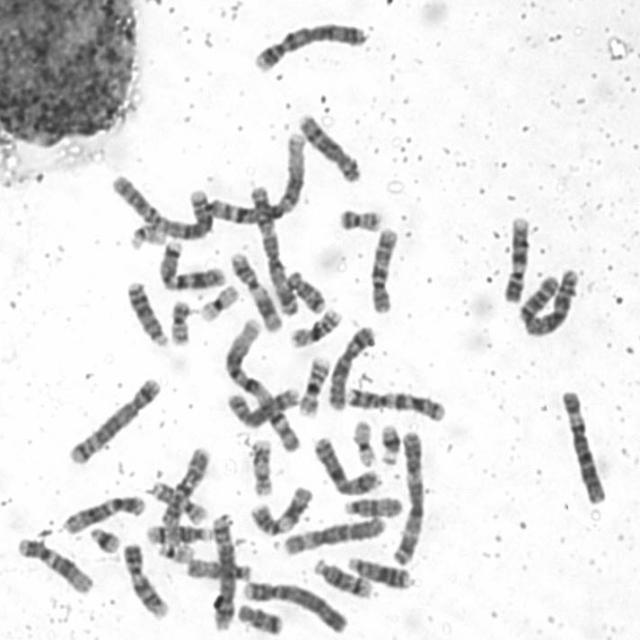A1: (221, 316, 302, 454), (204, 129, 308, 226)
A2: (107, 169, 215, 242), (516, 266, 581, 337)
A3: (248, 180, 300, 317), (387, 428, 427, 568)
B4: (238, 576, 349, 634), (250, 19, 366, 74)
B5: (66, 374, 162, 466), (207, 511, 237, 634)
C10: (158, 443, 212, 530), (366, 225, 399, 316)
C11: (227, 248, 283, 334), (247, 482, 313, 536)
C12: (15, 532, 94, 596), (60, 492, 146, 536)
C6: (558, 384, 608, 504), (279, 512, 387, 557)
C7: (343, 385, 447, 422), (155, 238, 226, 292)
C8: (296, 110, 364, 185), (224, 382, 302, 429)
C9: (121, 540, 170, 620), (501, 212, 530, 304)
D13: (124, 277, 169, 348), (345, 552, 412, 590)
D14: (312, 556, 374, 599), (144, 521, 216, 544)
D15: (183, 554, 253, 583), (340, 493, 404, 519)
E16: (286, 305, 344, 349), (295, 352, 332, 418)
E17: (146, 479, 209, 525), (248, 437, 276, 499)
E18: (281, 268, 328, 316), (234, 600, 284, 636)
F19: (198, 282, 240, 323), (348, 416, 378, 468)
F20: (336, 205, 383, 234), (168, 297, 192, 346)
G21: (377, 420, 402, 467), (87, 523, 121, 554)
G22: (127, 220, 167, 250), (154, 540, 196, 564)
X: (324, 322, 376, 413), (310, 433, 382, 497)
